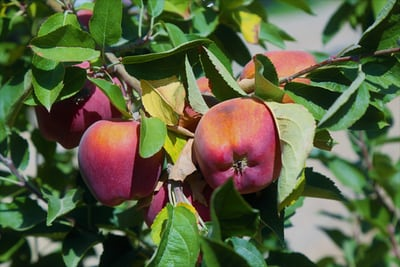apple: (190, 92, 284, 201), (71, 110, 168, 207), (33, 63, 124, 150)
